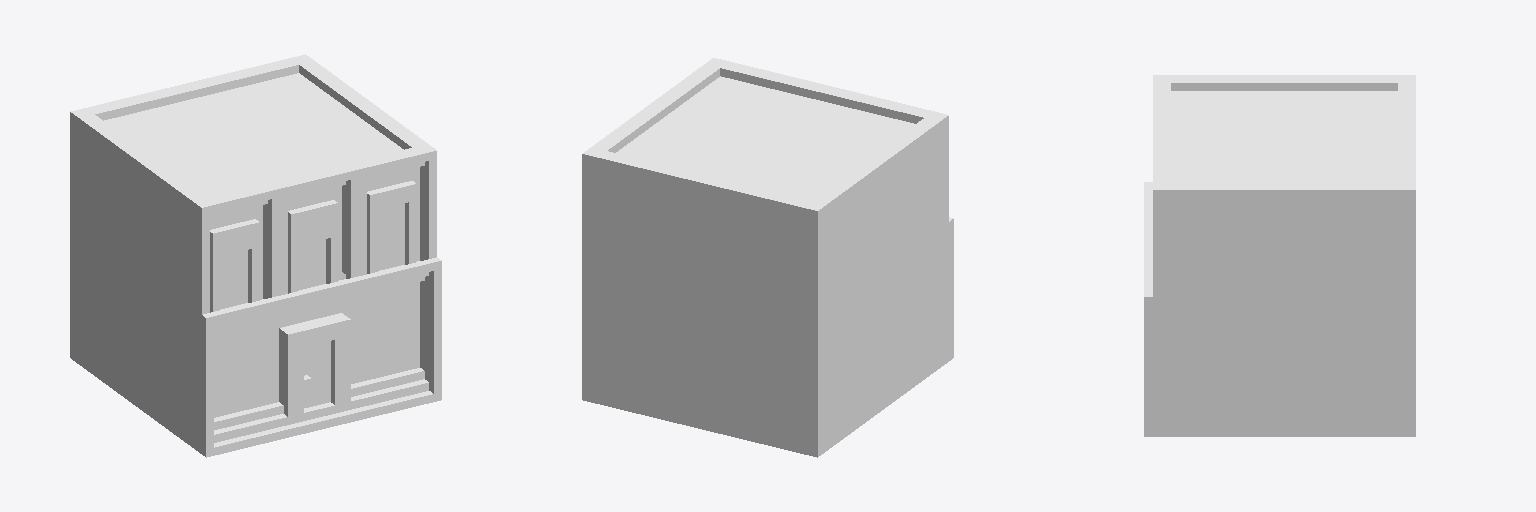
File: Edificio_04.obj
The picture shows the model from 3 angles: view 1: azimuth 30°, elevation 25°; view 2: azimuth 150°, elevation 25°; view 3: azimuth 270°, elevation 25°; orthographic projection.
Parts seen in each view (by area): view 1: object 1; view 2: object 1; view 3: object 1.
Boxes of the visible parts, x1,y1,x2,y2 form: object 1: [70, 54, 441, 457]; object 1: [582, 58, 953, 457]; object 1: [1144, 75, 1415, 436].
Size of the model in its own units: 3 by 3 by 3.